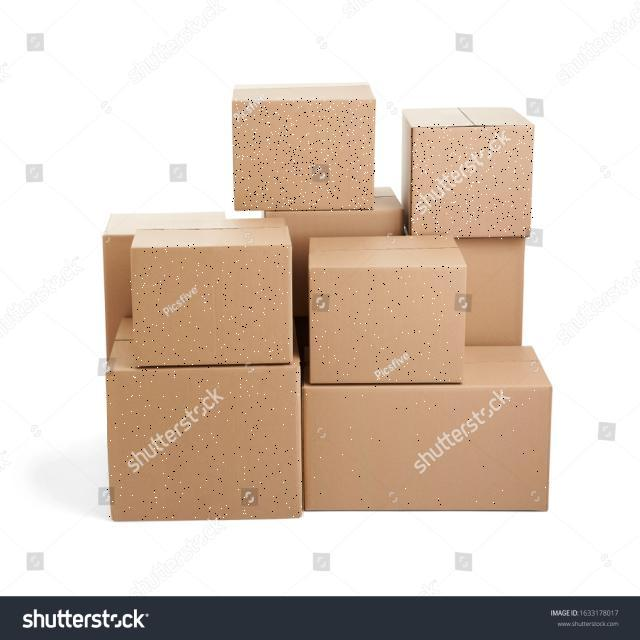BoxFace: (306, 382, 552, 512), (108, 362, 304, 520), (130, 244, 290, 364), (310, 266, 464, 384), (232, 98, 375, 211), (411, 123, 533, 239)
